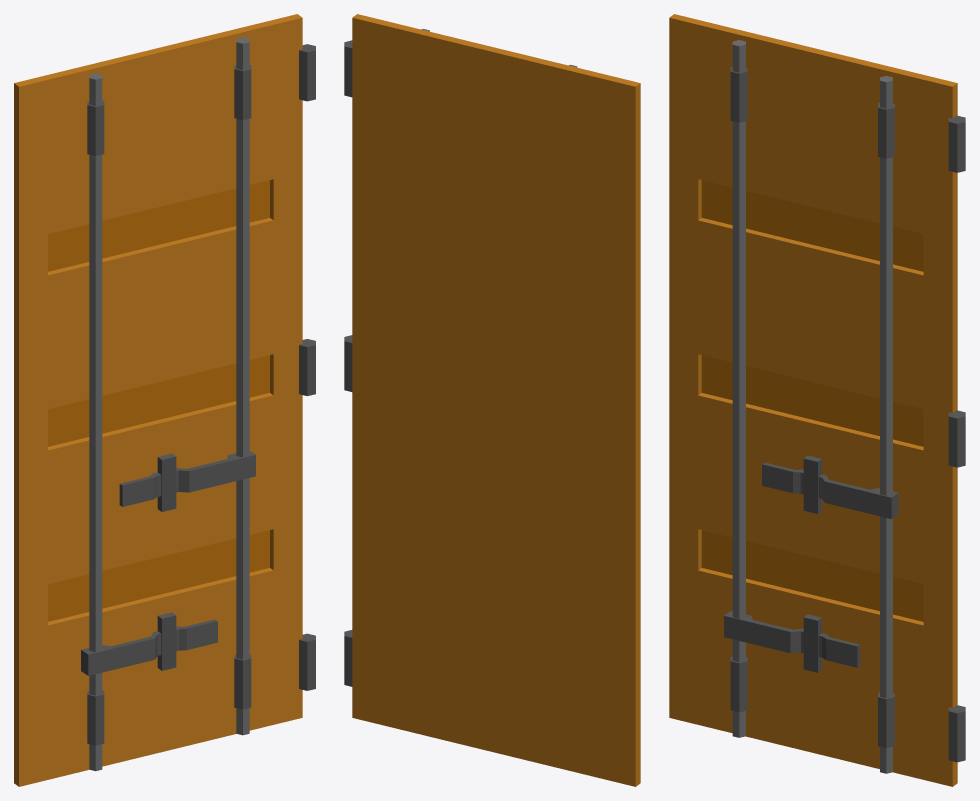
The model's file is ShippingContainer_Door2_R.fbx.
3 renders of one model, left to right at view 1: azimuth 30°, elevation 25°; view 2: azimuth 150°, elevation 25°; view 3: azimuth 330°, elevation 25°, orthographic.
Visible parts, largest first — view 1: ShippingContainer_Door2_R; view 2: ShippingContainer_Door2_R; view 3: ShippingContainer_Door2_R.
Part boxes in pixels (box(x1,y1,x2,y2)): ShippingContainer_Door2_R: box(14, 14, 315, 786); ShippingContainer_Door2_R: box(344, 14, 640, 786); ShippingContainer_Door2_R: box(669, 14, 965, 786).
Bounding box in the file's own units: 117 × 263 × 8.59.
